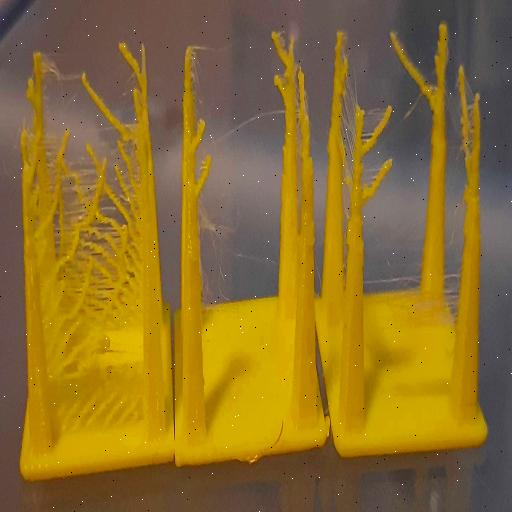stringing: (32, 130, 140, 412), (38, 34, 138, 140), (383, 26, 435, 116), (362, 104, 394, 210), (336, 48, 356, 204), (190, 110, 214, 212), (450, 68, 472, 174), (265, 30, 290, 112)
